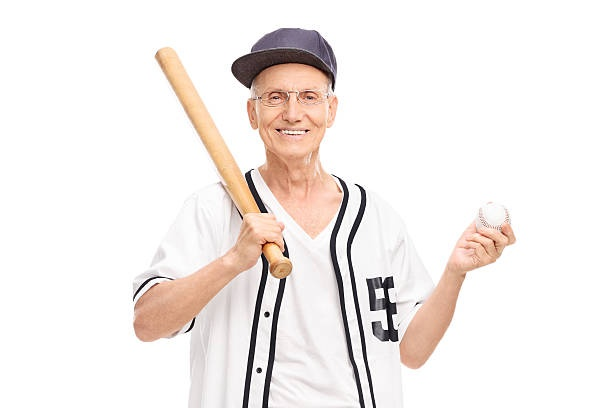bita: (158, 49, 290, 279)
